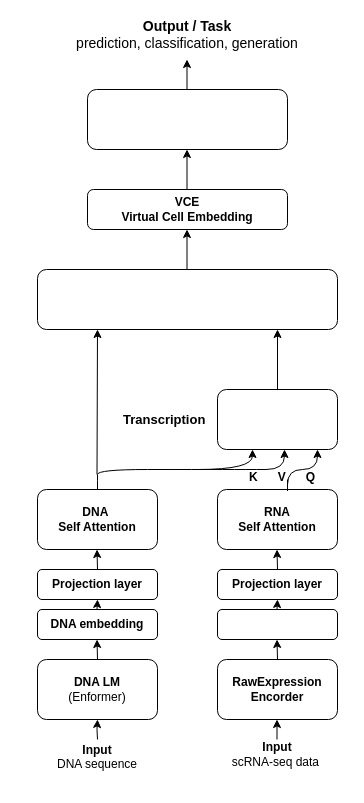
Image size: 364x803. Some labels were removed from this diagram. The shapes that lost their labels are listed below. From the top down, each one's centre as x and y in pixels, then its label:
the point at 187,119: Task Head MLP
the point at 187,299: Virtual Cell Embedder Attention pooling + MLP
the point at 277,419: DNA -> RNA Cross Attention
the point at 277,624: RNA embedding
